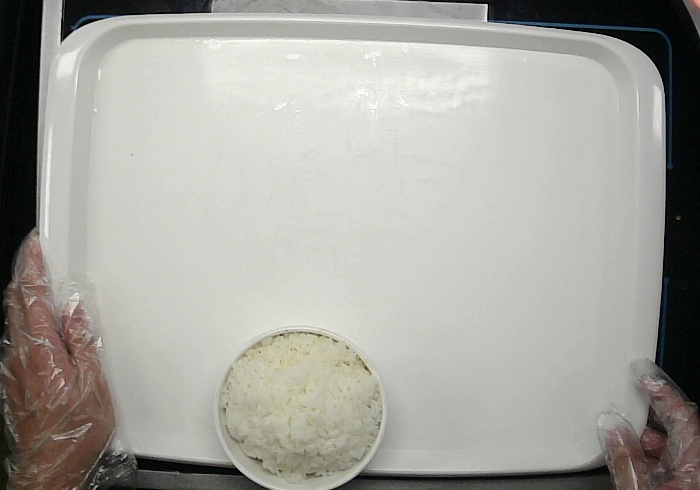HZYJPL-Fan_Wan: (213, 326, 389, 490)
